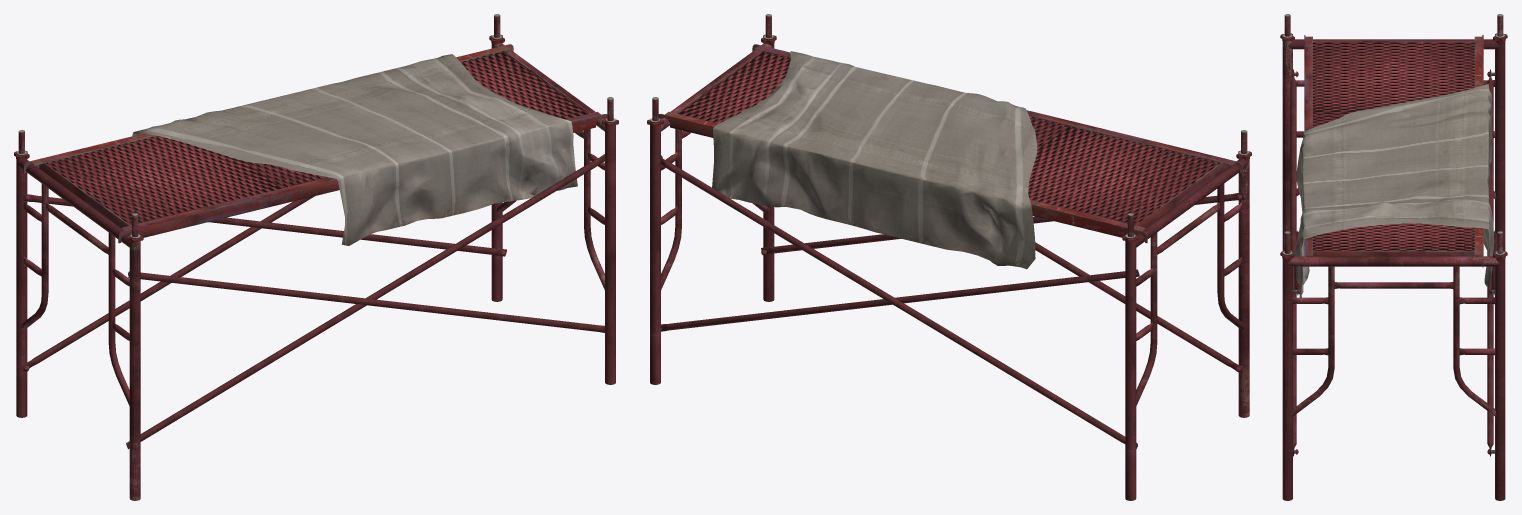
File: scaffolding-2.FBX
3 renders of one model, left to right at view 1: azimuth 30°, elevation 25°; view 2: azimuth 150°, elevation 25°; view 3: azimuth 270°, elevation 25°, orthographic. The views are drawn at different scales.
Parts seen in each view (by area): view 1: scaffolding-2_LOD0; view 2: scaffolding-2_LOD0; view 3: scaffolding-2_LOD0.
Boxes of the visible parts, bbox=[...] form: scaffolding-2_LOD0: bbox=[14, 14, 618, 500]; scaffolding-2_LOD0: bbox=[647, 14, 1251, 500]; scaffolding-2_LOD0: bbox=[1280, 14, 1507, 500].
Size of what is drawn, in the model's own units: 256 by 142 by 110.
